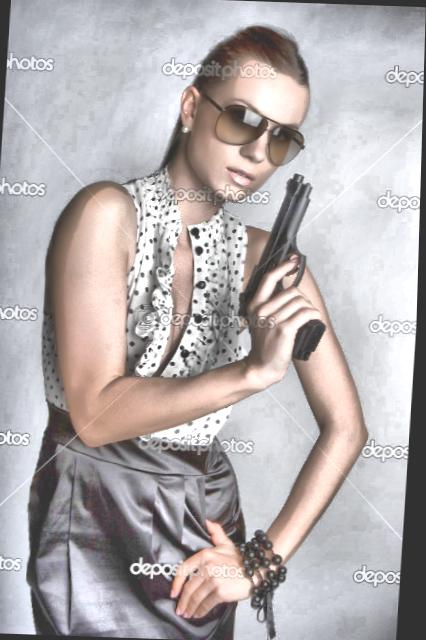pistol: (232, 170, 335, 370)
